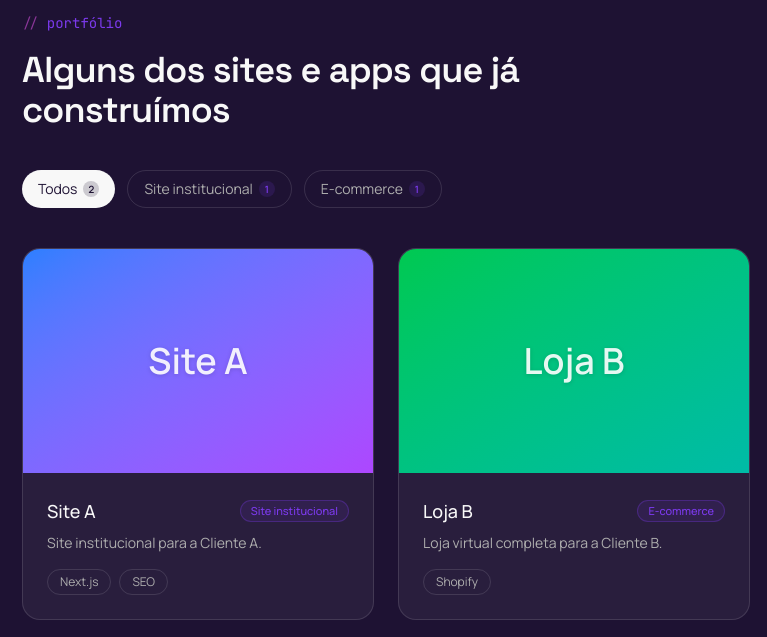
Projects - filtro de categorias › clicar em 'Todos' novamente volta a mostrar todos os projetos
The width and height of the screenshot is (767, 637).
Click the button "E-commerce 1". click: x=373, y=189
box: x1=304 y1=170 x2=442 y2=208
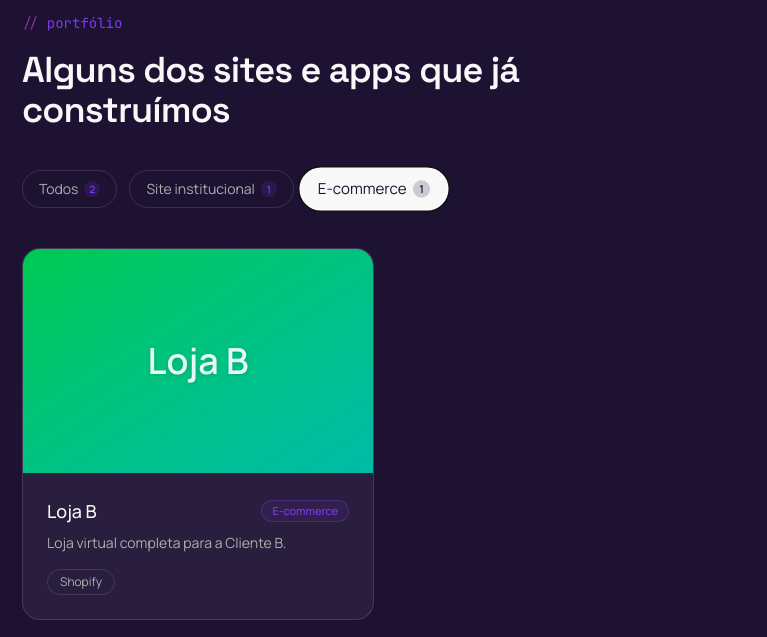
Click the button "Todos 2". click: x=70, y=189
box: x1=22 y1=170 x2=117 y2=208
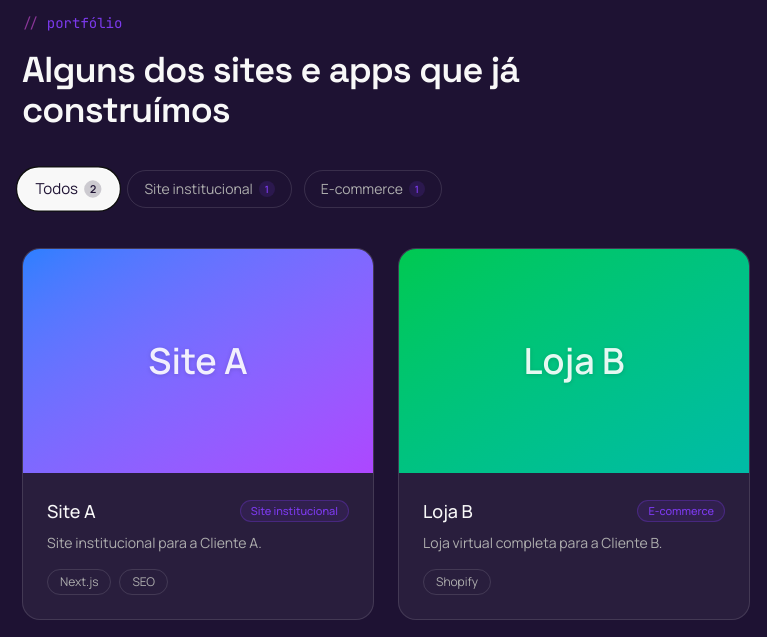
Expected: the heading "Loja B" is shown, x1=423 y1=497 x2=473 y2=525
Expected: the heading "Site A" is shown, x1=47 y1=497 x2=96 y2=525
